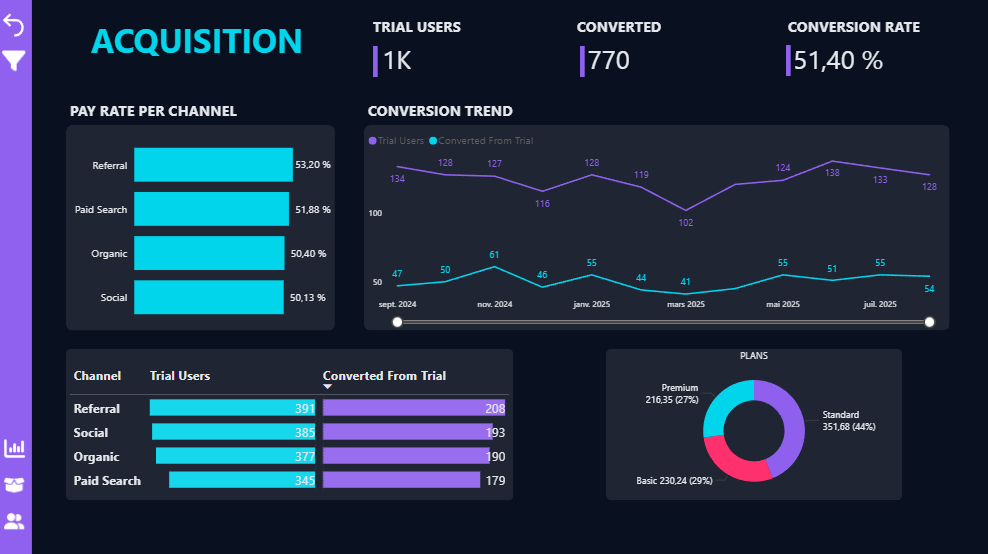

The page's visual inventory and layout, read from the dashboard file:
{"tool":"powerbi","page":{"name":"Acquisition","canvas":[1280,720],"ordinal":2},"visuals":[{"type":"shape","title":"Left Nav Background","box":[0,0,45,720],"z":0},{"type":"cardVisual","fields":{"Data":["Measures Table.Trial Users","Measures Table.Converted From Trial","Measures Table.Pay Rate"]},"box":[480.3,30.2,795.4,87],"z":0,"group":"g1"},{"type":"shape","box":[88.3,163.4,346.7,265],"z":0,"group":"g3"},{"type":"actionButton","title":"Overview","box":[5,561.7,35,35],"z":0,"group":"g2"},{"type":"textbox","box":[115.7,18.6,300,70],"z":1000},{"type":"textbox","box":[88.3,126.7,313.3,36.7],"z":1000,"group":"g3"},{"type":"actionButton","box":[2,60,45,38],"z":2000},{"type":"barChart","fields":{"Category":["subscribers.acquisition_channel"],"Y":["Measures Table.Pay Rate"]},"box":[88.3,156.7,346.7,280],"z":2000,"group":"g3"},{"type":"actionButton","title":"Content","box":[5,609.4,34,34],"z":2000,"group":"g2"},{"type":"actionButton","box":[1.7,10,40,45],"z":3000},{"type":"shape","box":[1015.1,60.4,11.2,39.9],"z":3000,"group":"g1"},{"type":"actionButton","title":"Acquisition","box":[5,656,34,34],"z":3000,"group":"g2"},{"type":"group","id":"g1","title":"Groupe 1","box":[480,18.6,795.7,98.6],"z":4000},{"type":"textbox","box":[1014.4,18.6,213.3,35.9],"z":4000,"group":"g1"},{"type":"shape","box":[749.4,60.5,11.2,39.9],"z":5000,"group":"g1"},{"type":"textbox","box":[742.7,18.6,215.5,35.9],"z":6000,"group":"g1"},{"type":"group","id":"g2","title":"Navigation","box":[5,561.7,35,128.3],"z":6000},{"type":"shape","box":[482.2,60.5,11.2,39.9],"z":7000,"group":"g1"},{"type":"group","id":"g3","title":"Groupe 2","box":[88.3,126.7,346.7,310],"z":7000},{"type":"shape","box":[473.3,163.4,755,265],"z":7000,"group":"g6"},{"type":"textbox","box":[480,18.6,215.5,35.9],"z":8000,"group":"g1"},{"type":"textbox","box":[473.3,126.7,200,36.7],"z":8000,"group":"g6"},{"type":"group","id":"g4","title":"Groupe 3","box":[88.3,451.7,576.7,195],"z":8000},{"type":"lineChart","title":"Revenue Trending","fields":{"Category":["date_dim.Début de mois.Variation.Hiérarchie de dates.Année","date_dim.Début de mois.Variation.Hiérarchie de dates.Trimestre","date_dim.Début de mois.Variation.Hiérarchie de dates.Mois","date_dim.Début de mois.Variation.Hiérarchie de dates.Jour"],"Y":["Measures Table.Trial Users","Measures Table.Converted From Trial"]},"box":[473.3,163.4,755,265],"z":8500,"group":"g6"},{"type":"group","id":"g5","title":"Groupe 4","box":[785,451.7,381.7,195],"z":9000},{"type":"group","id":"g6","title":"Groupe 5","box":[473.3,126.7,755,301.7],"z":10000},{"type":"pivotTable","fields":{"Rows":["subscribers.acquisition_channel"],"Values":["Measures Table.Trial Users","Measures Table.Converted From Trial"]},"box":[88.3,465,576.7,181.7],"z":17504,"group":"g4"},{"type":"shape","box":[88.3,451.7,576.7,195],"z":18004,"group":"g4"},{"type":"shape","box":[785,451.7,381.7,195],"z":18005,"group":"g5"},{"type":"donutChart","title":"PLANS","fields":{"Category":["subscribers.plan"],"Y":["Measures Table.Watchtime_hr"]},"box":[785,451.7,381.7,195],"z":18505,"group":"g5"}]}

Visuals, with their boxes on the page's 1280x720 design canvas (x1, y1, x2, y2). These are canvas units, not pixel positions in the 988x554 screenshot, which may show the page scaled, cropped or inside an application window:
"Left Nav Background" shape: {"x1": 0, "y1": 0, "x2": 45, "y2": 720}
cardVisual - Measures Table.Trial Users x Measures Table.Converted From Trial: {"x1": 480, "y1": 30, "x2": 1276, "y2": 117}
shape: {"x1": 88, "y1": 163, "x2": 435, "y2": 428}
"Overview" actionButton: {"x1": 5, "y1": 562, "x2": 40, "y2": 597}
textbox: {"x1": 116, "y1": 19, "x2": 416, "y2": 89}
textbox: {"x1": 88, "y1": 127, "x2": 402, "y2": 163}
actionButton: {"x1": 2, "y1": 60, "x2": 47, "y2": 98}
barChart - subscribers.acquisition_channel x Measures Table.Pay Rate: {"x1": 88, "y1": 157, "x2": 435, "y2": 437}
"Content" actionButton: {"x1": 5, "y1": 609, "x2": 39, "y2": 643}
actionButton: {"x1": 2, "y1": 10, "x2": 42, "y2": 55}
shape: {"x1": 1015, "y1": 60, "x2": 1026, "y2": 100}
"Acquisition" actionButton: {"x1": 5, "y1": 656, "x2": 39, "y2": 690}
"Groupe 1" group: {"x1": 480, "y1": 19, "x2": 1276, "y2": 117}
textbox: {"x1": 1014, "y1": 19, "x2": 1228, "y2": 54}
shape: {"x1": 749, "y1": 60, "x2": 761, "y2": 100}
textbox: {"x1": 743, "y1": 19, "x2": 958, "y2": 54}
"Navigation" group: {"x1": 5, "y1": 562, "x2": 40, "y2": 690}
shape: {"x1": 482, "y1": 60, "x2": 493, "y2": 100}
"Groupe 2" group: {"x1": 88, "y1": 127, "x2": 435, "y2": 437}
shape: {"x1": 473, "y1": 163, "x2": 1228, "y2": 428}
textbox: {"x1": 480, "y1": 19, "x2": 696, "y2": 54}
textbox: {"x1": 473, "y1": 127, "x2": 673, "y2": 163}
"Groupe 3" group: {"x1": 88, "y1": 452, "x2": 665, "y2": 647}
"Revenue Trending" lineChart: {"x1": 473, "y1": 163, "x2": 1228, "y2": 428}
"Groupe 4" group: {"x1": 785, "y1": 452, "x2": 1167, "y2": 647}
"Groupe 5" group: {"x1": 473, "y1": 127, "x2": 1228, "y2": 428}
pivotTable - subscribers.acquisition_channel x Measures Table.Trial Users: {"x1": 88, "y1": 465, "x2": 665, "y2": 647}
shape: {"x1": 88, "y1": 452, "x2": 665, "y2": 647}
shape: {"x1": 785, "y1": 452, "x2": 1167, "y2": 647}
"PLANS" donutChart: {"x1": 785, "y1": 452, "x2": 1167, "y2": 647}
